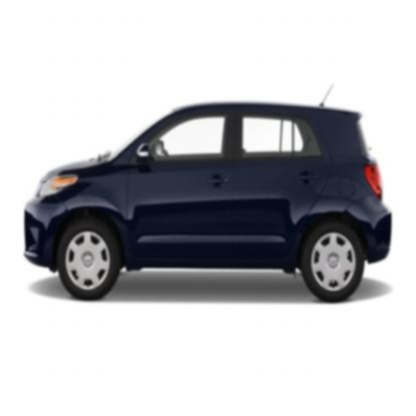Vehicle: (23, 82, 396, 308)
